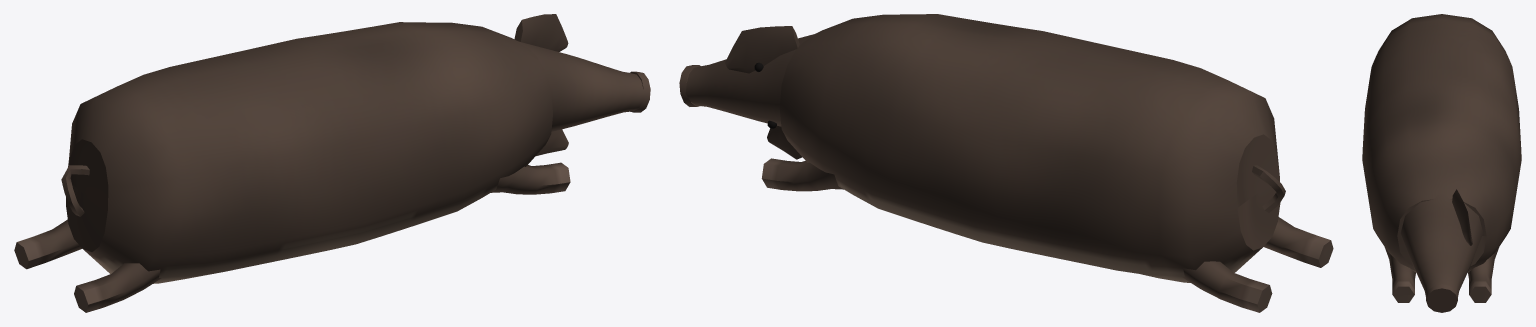
Rendered from tpl_life_pigs_1175_pig_old_lie.glb.
3 renders of one model, left to right at view 1: azimuth 30°, elevation 25°; view 2: azimuth 150°, elevation 25°; view 3: azimuth 270°, elevation 25°, orthographic. The views are drawn at different scales.
Parts seen in each view (by area): view 1: tpl_life_pigs_1175_pig_old_lie; view 2: tpl_life_pigs_1175_pig_old_lie; view 3: tpl_life_pigs_1175_pig_old_lie.
Boxes of the visible parts, x1,y1,x2,y2 form: tpl_life_pigs_1175_pig_old_lie: (14, 14, 650, 312); tpl_life_pigs_1175_pig_old_lie: (679, 14, 1333, 312); tpl_life_pigs_1175_pig_old_lie: (1362, 14, 1521, 312).
Size of the model in its own units: 1.66 by 0.4789 by 0.4992.
2 materials, 1 textured.
